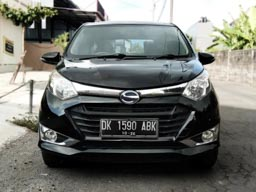plat: (101, 120, 157, 130)
